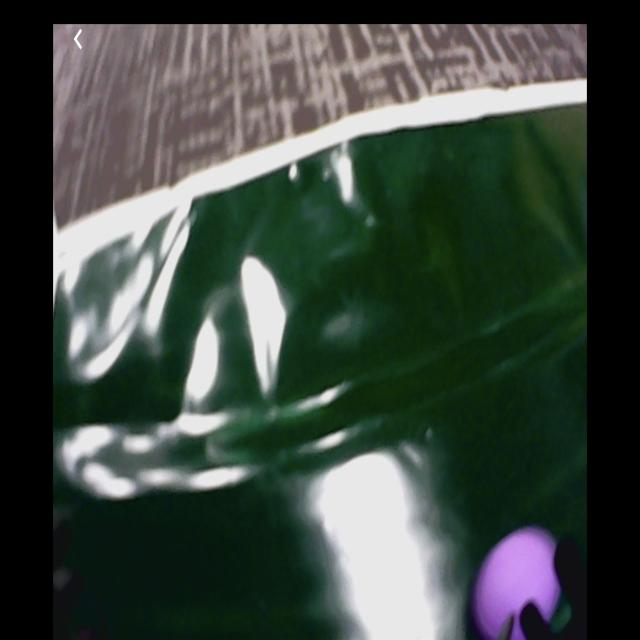ball: (474, 526, 564, 640)
